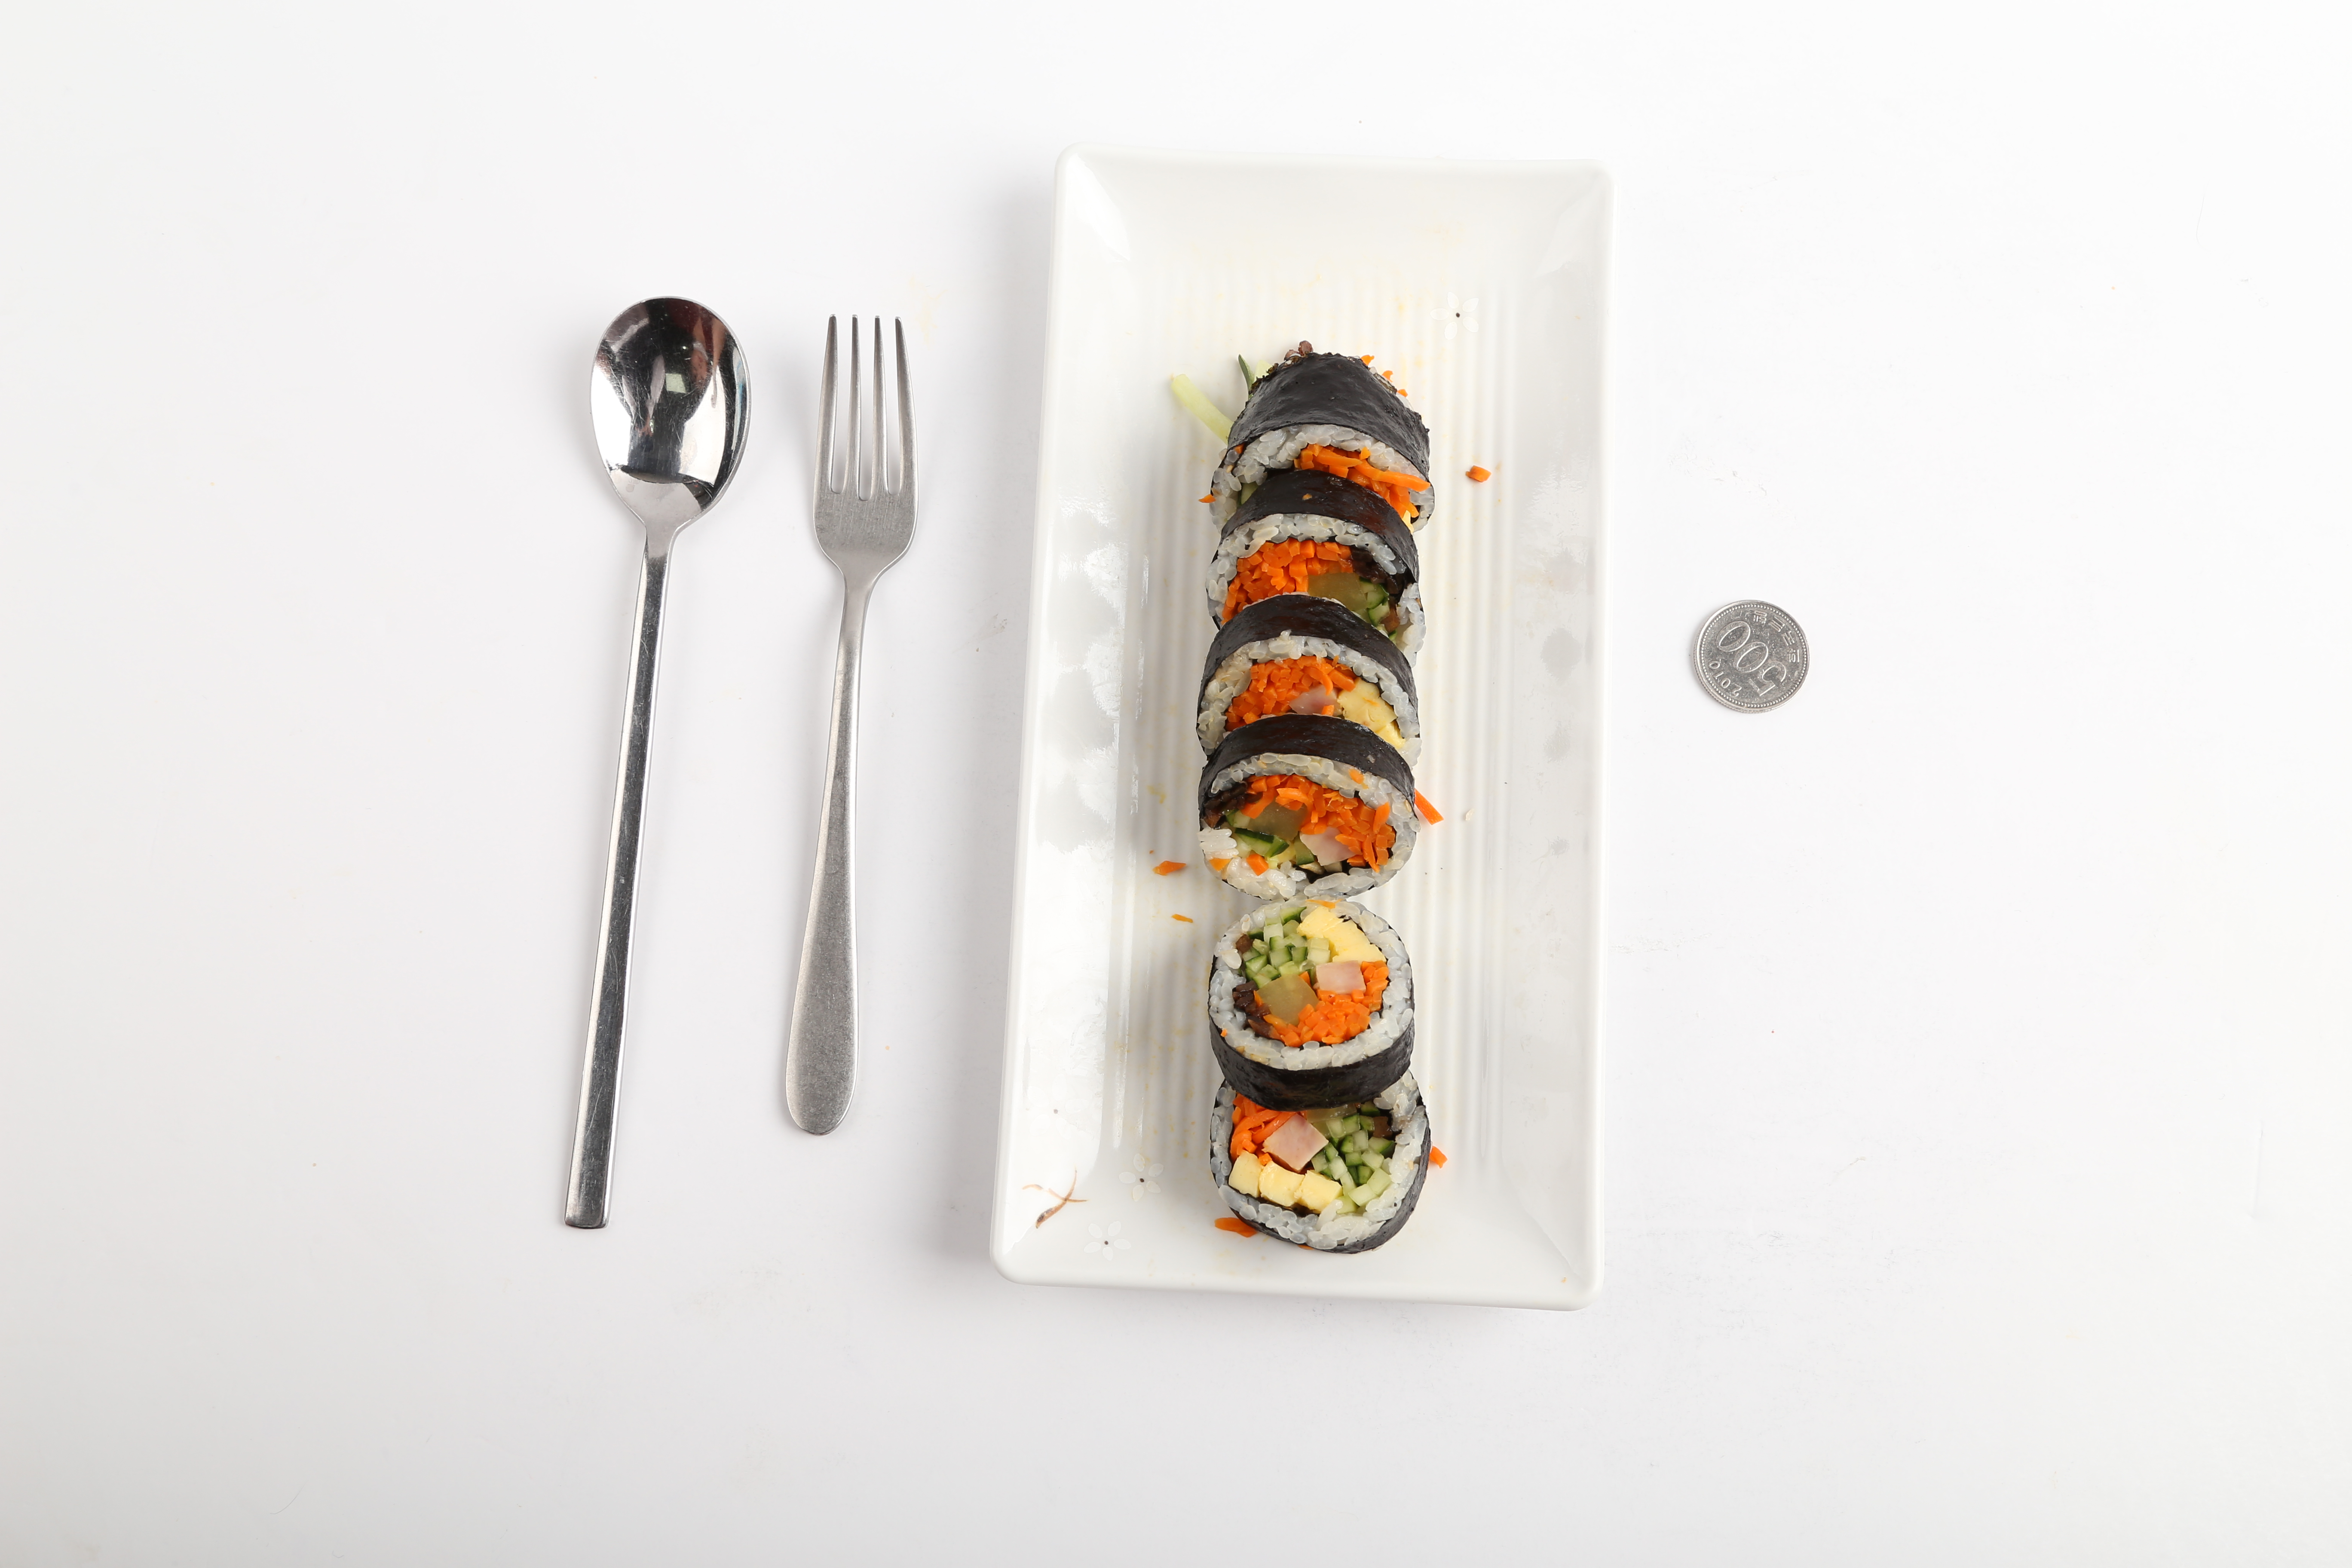dish: (978, 136, 1612, 1311)
ref_coin: (1685, 591, 1815, 721)
ref_fork: (801, 311, 927, 612)
ref_spoon: (581, 287, 752, 593)
김밥: (1193, 352, 1435, 1256)
